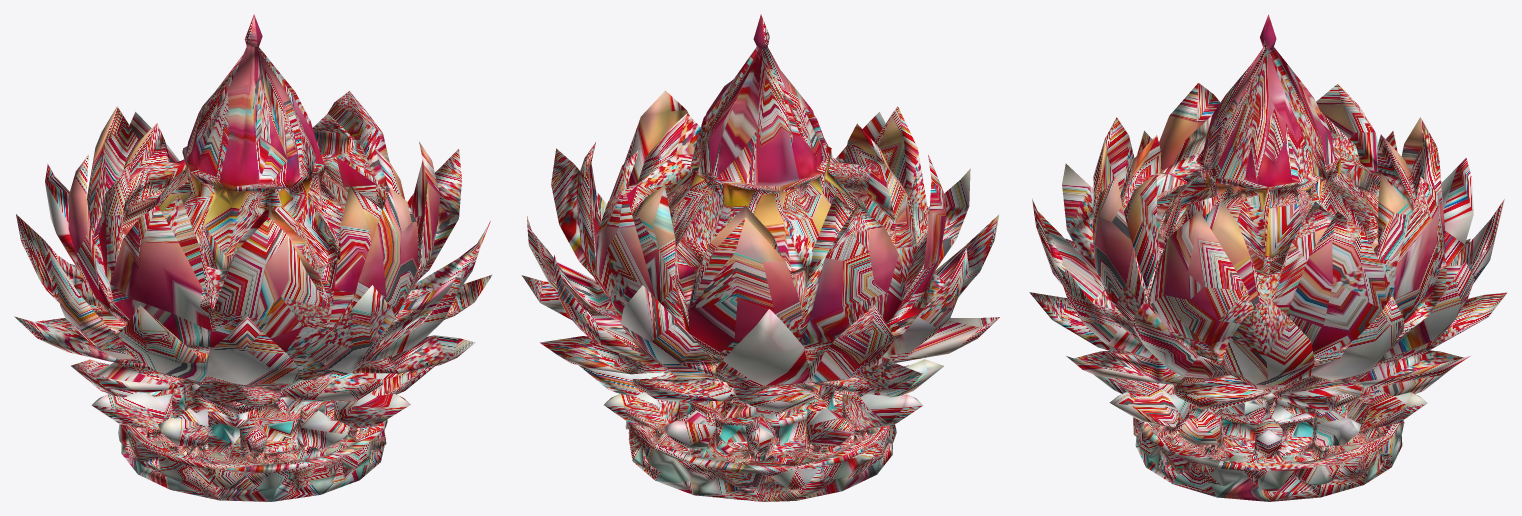
Rendered from A_colossal_floating_c.glb.
3 renders of one model, left to right at view 1: azimuth 30°, elevation 25°; view 2: azimuth 150°, elevation 25°; view 3: azimuth 270°, elevation 25°, orthographic.
Visible parts, largest first — view 1: A_colossal_floating_c; view 2: A_colossal_floating_c; view 3: A_colossal_floating_c.
Boxes of the visible parts, bbox=[...] form: A_colossal_floating_c: bbox=[14, 14, 492, 501]; A_colossal_floating_c: bbox=[521, 14, 999, 501]; A_colossal_floating_c: bbox=[1029, 14, 1507, 501].
Bounding box in the file's own units: 1.88 × 1.9 × 1.91.
Materials: 1 (1 with a texture image).
